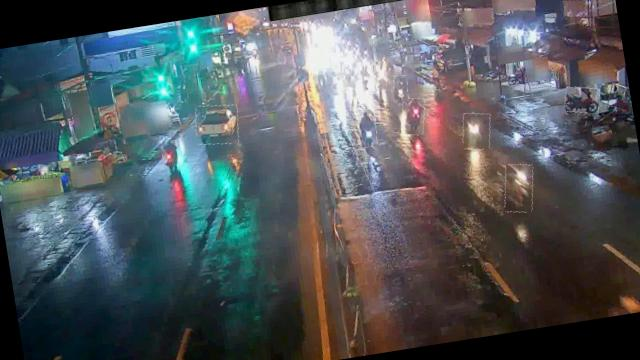Bike: (500, 162, 538, 214), (459, 110, 494, 152), (563, 84, 602, 116), (398, 96, 428, 137), (356, 108, 380, 148), (160, 139, 180, 173), (392, 74, 409, 102), (372, 60, 388, 89)
Car: (192, 102, 242, 148)
